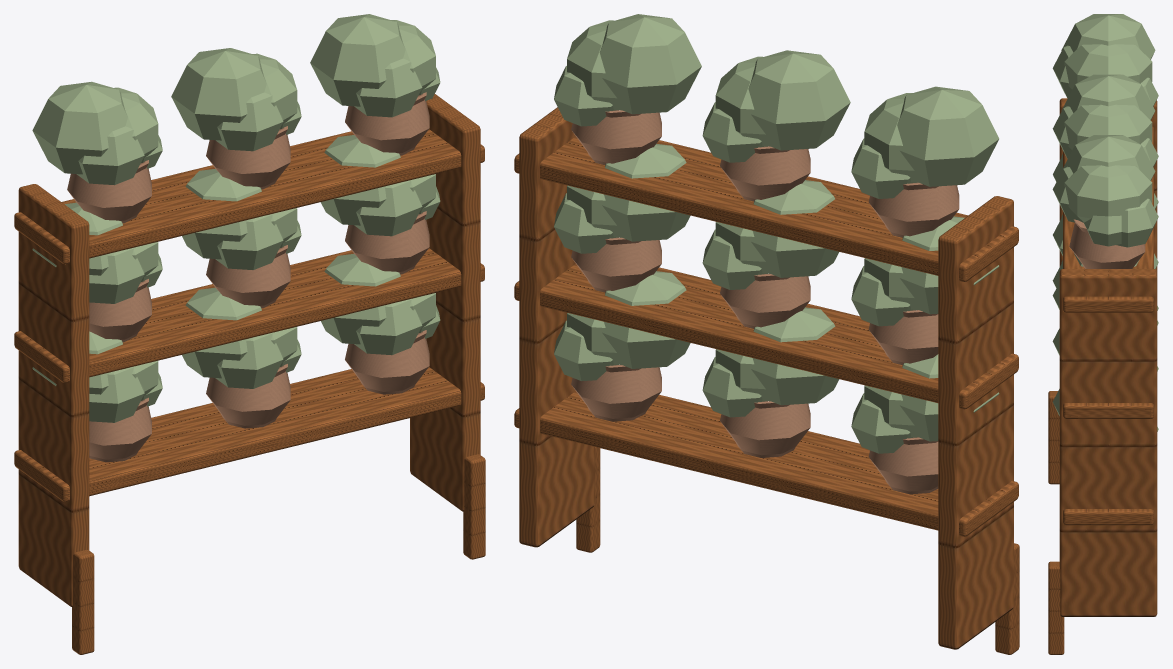
The model's file is greek-island-village-and-harbour-herb-pot-shelf-30fb55c8__37099.glb.
3 views of the same model, side by side, from view 1: azimuth 30°, elevation 25°; view 2: azimuth 150°, elevation 25°; view 3: azimuth 270°, elevation 25° (orthographic). The views are drawn at different scales.
Parts seen in each view (by area): view 1: herb-pot-shelf; view 2: herb-pot-shelf; view 3: herb-pot-shelf.
Part boxes in pixels (box(x1,y1,x2,y2)): herb-pot-shelf: box(14, 14, 485, 654); herb-pot-shelf: box(514, 14, 1019, 654); herb-pot-shelf: box(1048, 14, 1158, 654).
Size of the model in its own units: 1.34 by 1.63 by 0.3397.
3 materials, 2 textured.
